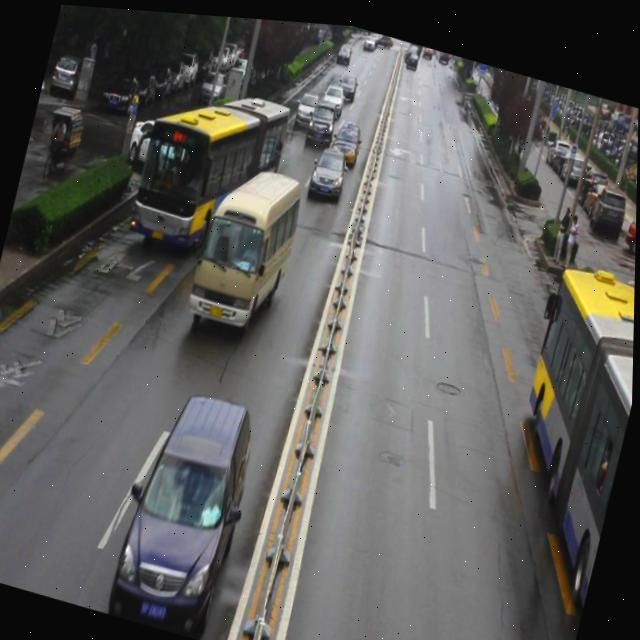car: (106, 374, 265, 636), (125, 110, 203, 187), (305, 137, 349, 200), (209, 102, 253, 162), (327, 110, 364, 163), (304, 92, 340, 144), (292, 83, 321, 127)
truck: (185, 149, 310, 343)
van: (477, 253, 636, 621), (125, 68, 293, 274)
